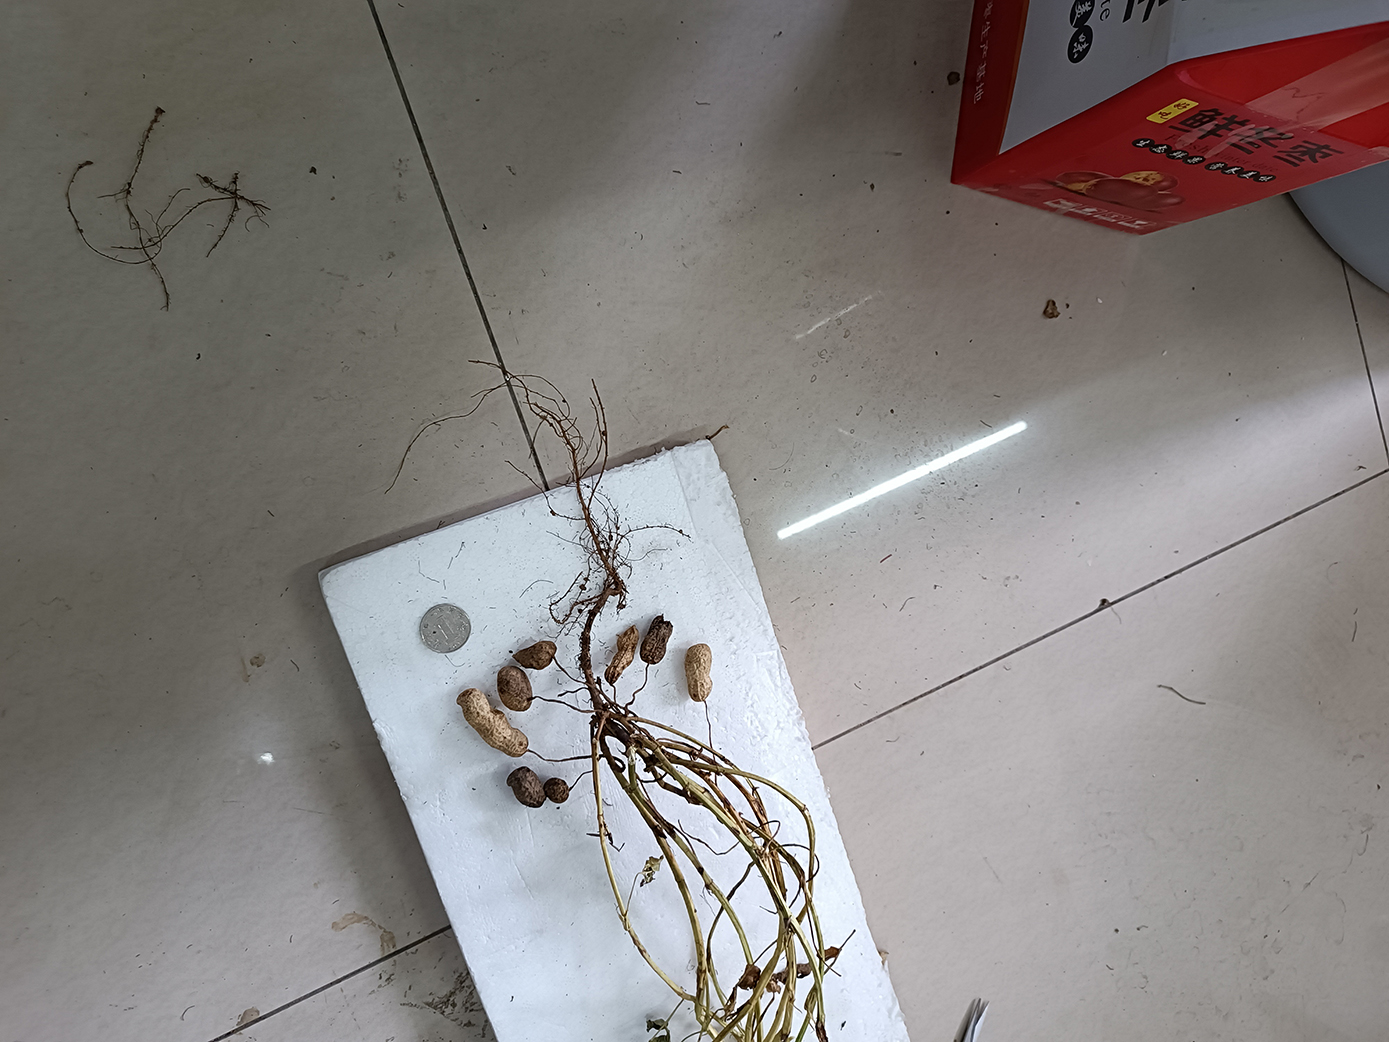h: (458, 688, 529, 757), (684, 642, 713, 702)
l: (603, 625, 639, 684), (641, 614, 675, 665), (507, 765, 547, 808), (498, 665, 533, 713), (512, 640, 558, 670), (544, 777, 569, 804)
